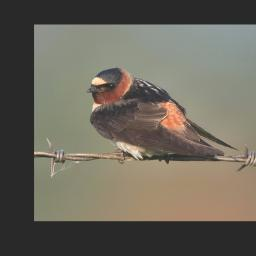Swallow: (86, 66, 240, 164)
